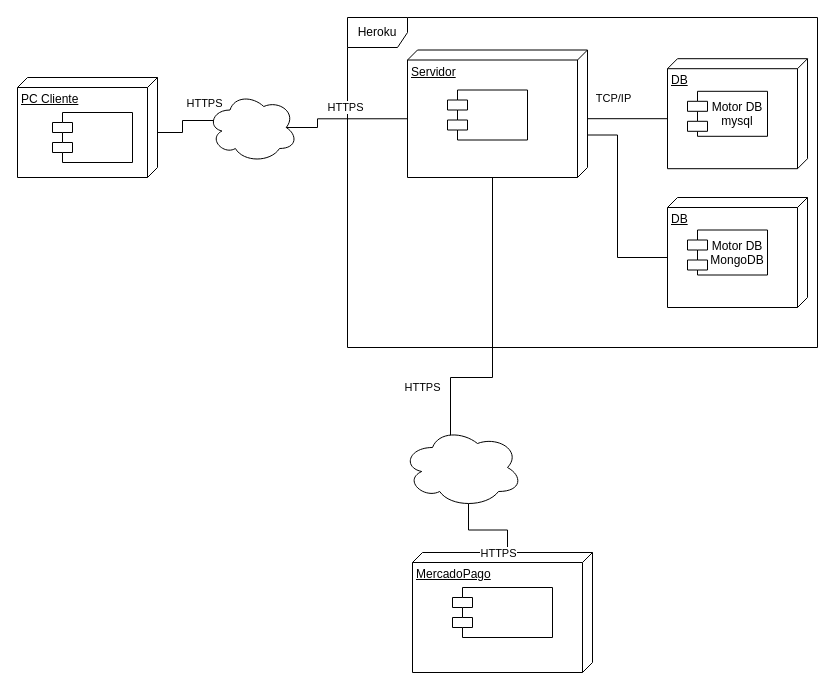
This 835x690 diagram has some shape labels left out. Each missing label, with the centre of its shape:
"API MP" goes at point (502, 612).
"Browser" goes at point (92, 137).
"GeSoc" goes at point (487, 114).
